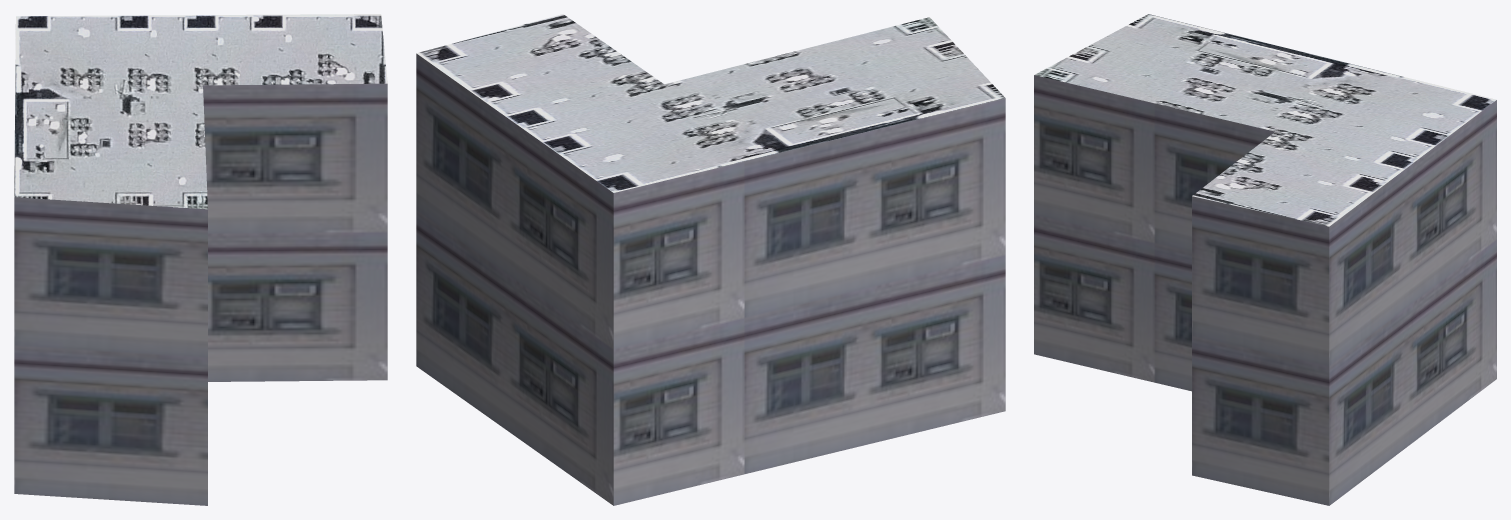
The model's file is ResTex__4039.fbx.
3 renders of one model, left to right at view 1: azimuth 30°, elevation 25°; view 2: azimuth 150°, elevation 25°; view 3: azimuth 270°, elevation 25°, orthographic. The views are drawn at different scales.
Parts seen in each view (by area): view 1: CityEngineMaterial_1_m, CityEngineMaterial_4_m; view 2: CityEngineMaterial_1_m, CityEngineMaterial_4_m; view 3: CityEngineMaterial_1_m, CityEngineMaterial_4_m.
Boxes of the visible parts, <box> form: CityEngineMaterial_1_m: <box>14,83,387,505</box>; CityEngineMaterial_4_m: <box>14,14,387,209</box>; CityEngineMaterial_1_m: <box>416,53,1005,505</box>; CityEngineMaterial_4_m: <box>416,14,1005,192</box>; CityEngineMaterial_1_m: <box>1034,75,1496,505</box>; CityEngineMaterial_4_m: <box>1034,14,1496,226</box>.
Size of the model in its own units: 9.8 by 6 by 9.01.
Materials: 2 (2 with a texture image).
